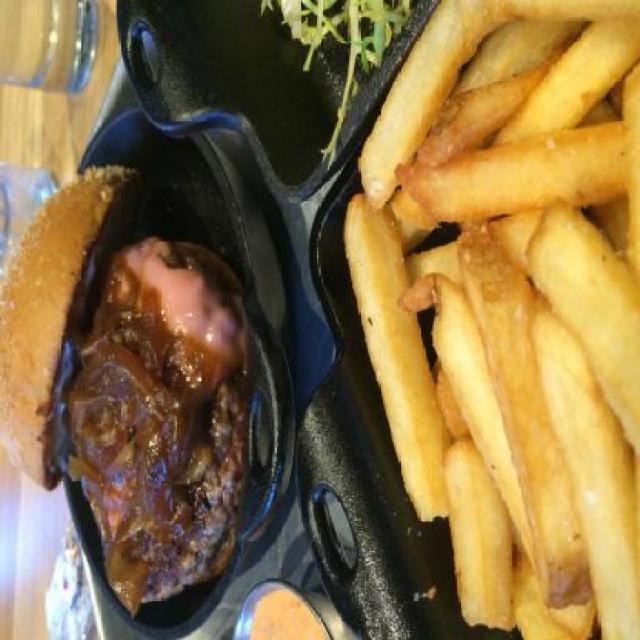French fries: (309, 28, 640, 640)
